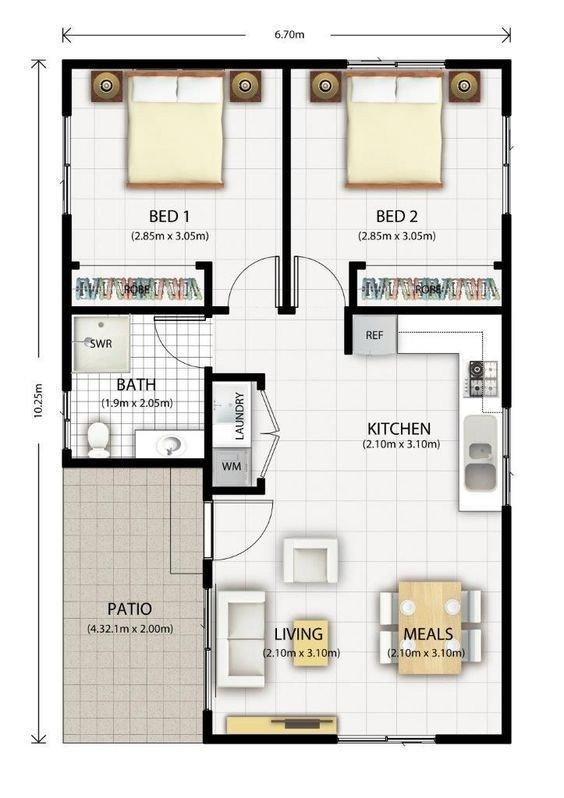door: (199, 489, 279, 558), (210, 244, 281, 310), (291, 255, 342, 324)
room: (213, 502, 516, 738), (65, 40, 288, 318), (284, 62, 521, 315), (216, 322, 510, 511), (65, 316, 213, 461)
wall: (60, 44, 349, 82), (275, 67, 303, 305), (496, 501, 521, 745), (493, 210, 521, 411), (70, 290, 230, 325), (348, 301, 515, 327), (53, 210, 76, 393), (59, 451, 212, 478), (198, 365, 220, 506), (201, 727, 345, 746), (208, 363, 284, 397), (435, 721, 525, 747), (497, 50, 523, 121), (199, 257, 226, 319), (442, 56, 514, 78), (210, 482, 284, 500), (334, 300, 355, 360), (59, 49, 76, 122), (351, 256, 369, 308), (199, 554, 219, 589)
window: (355, 46, 445, 80), (493, 118, 524, 211), (193, 585, 216, 710), (343, 721, 437, 749), (497, 416, 520, 507), (60, 118, 79, 217)
